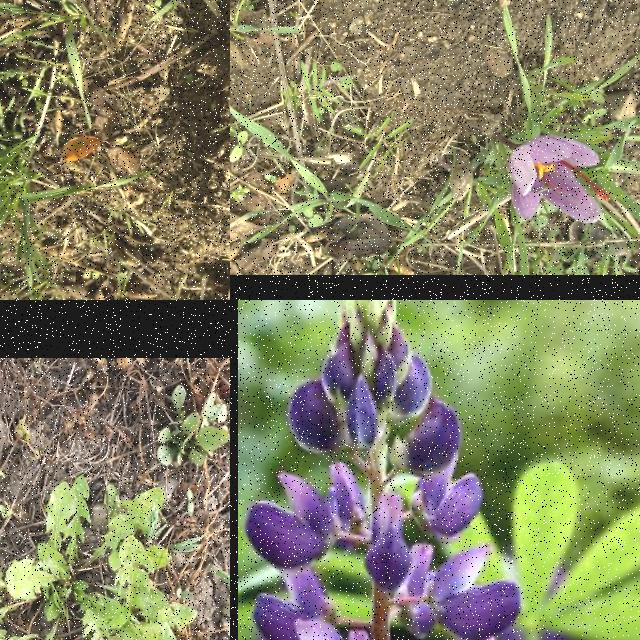flower: (506, 136, 608, 224)
